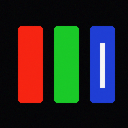4 line_v: (100, 43, 104, 87)
